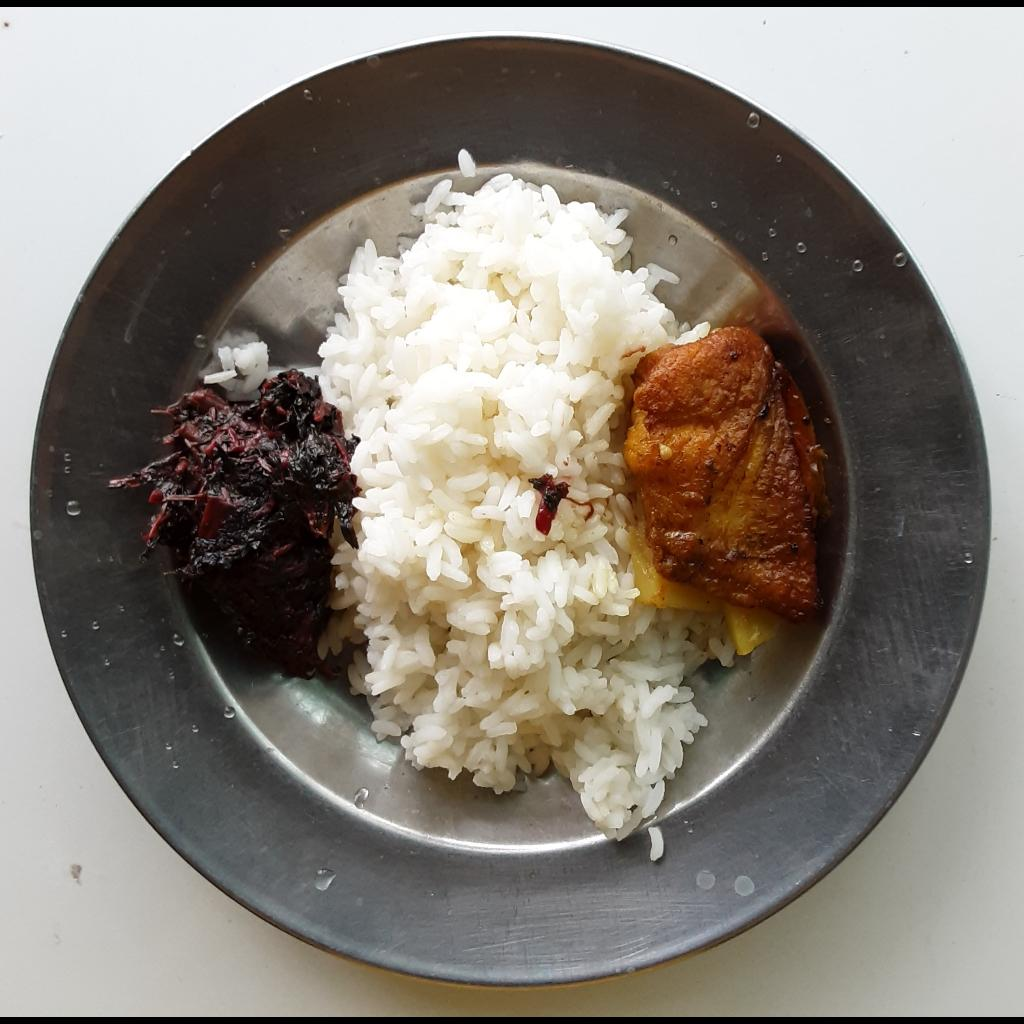fish: (624, 324, 824, 624)
lal-shak: (100, 367, 356, 672)
rice: (305, 143, 743, 867), (209, 340, 265, 401)
